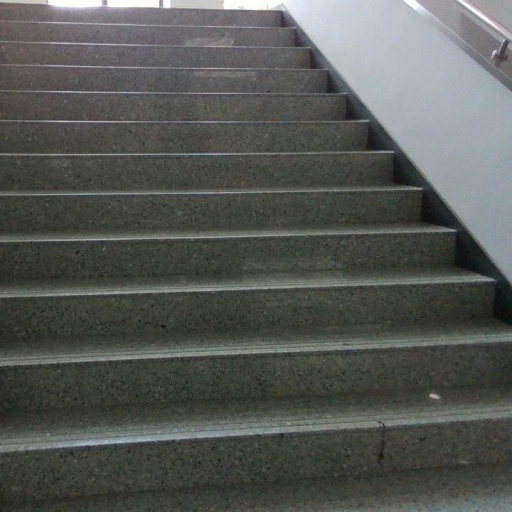Stairs: (0, 4, 512, 512)
